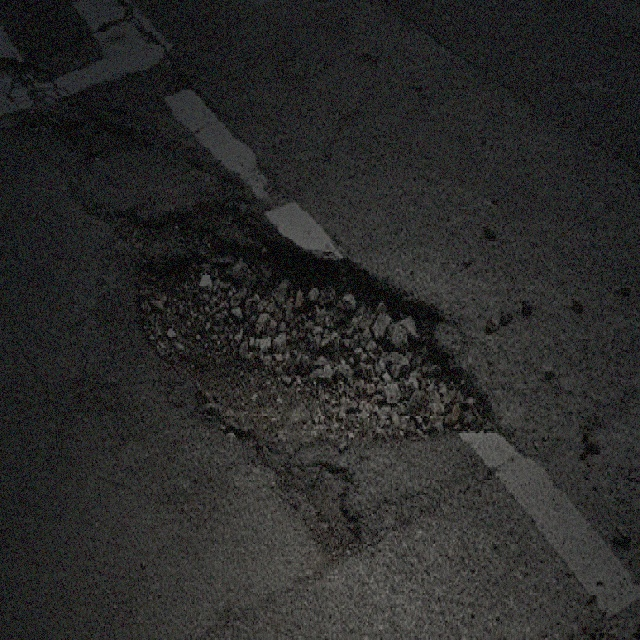pothole: (133, 209, 501, 454), (287, 456, 366, 566), (22, 100, 146, 160)
